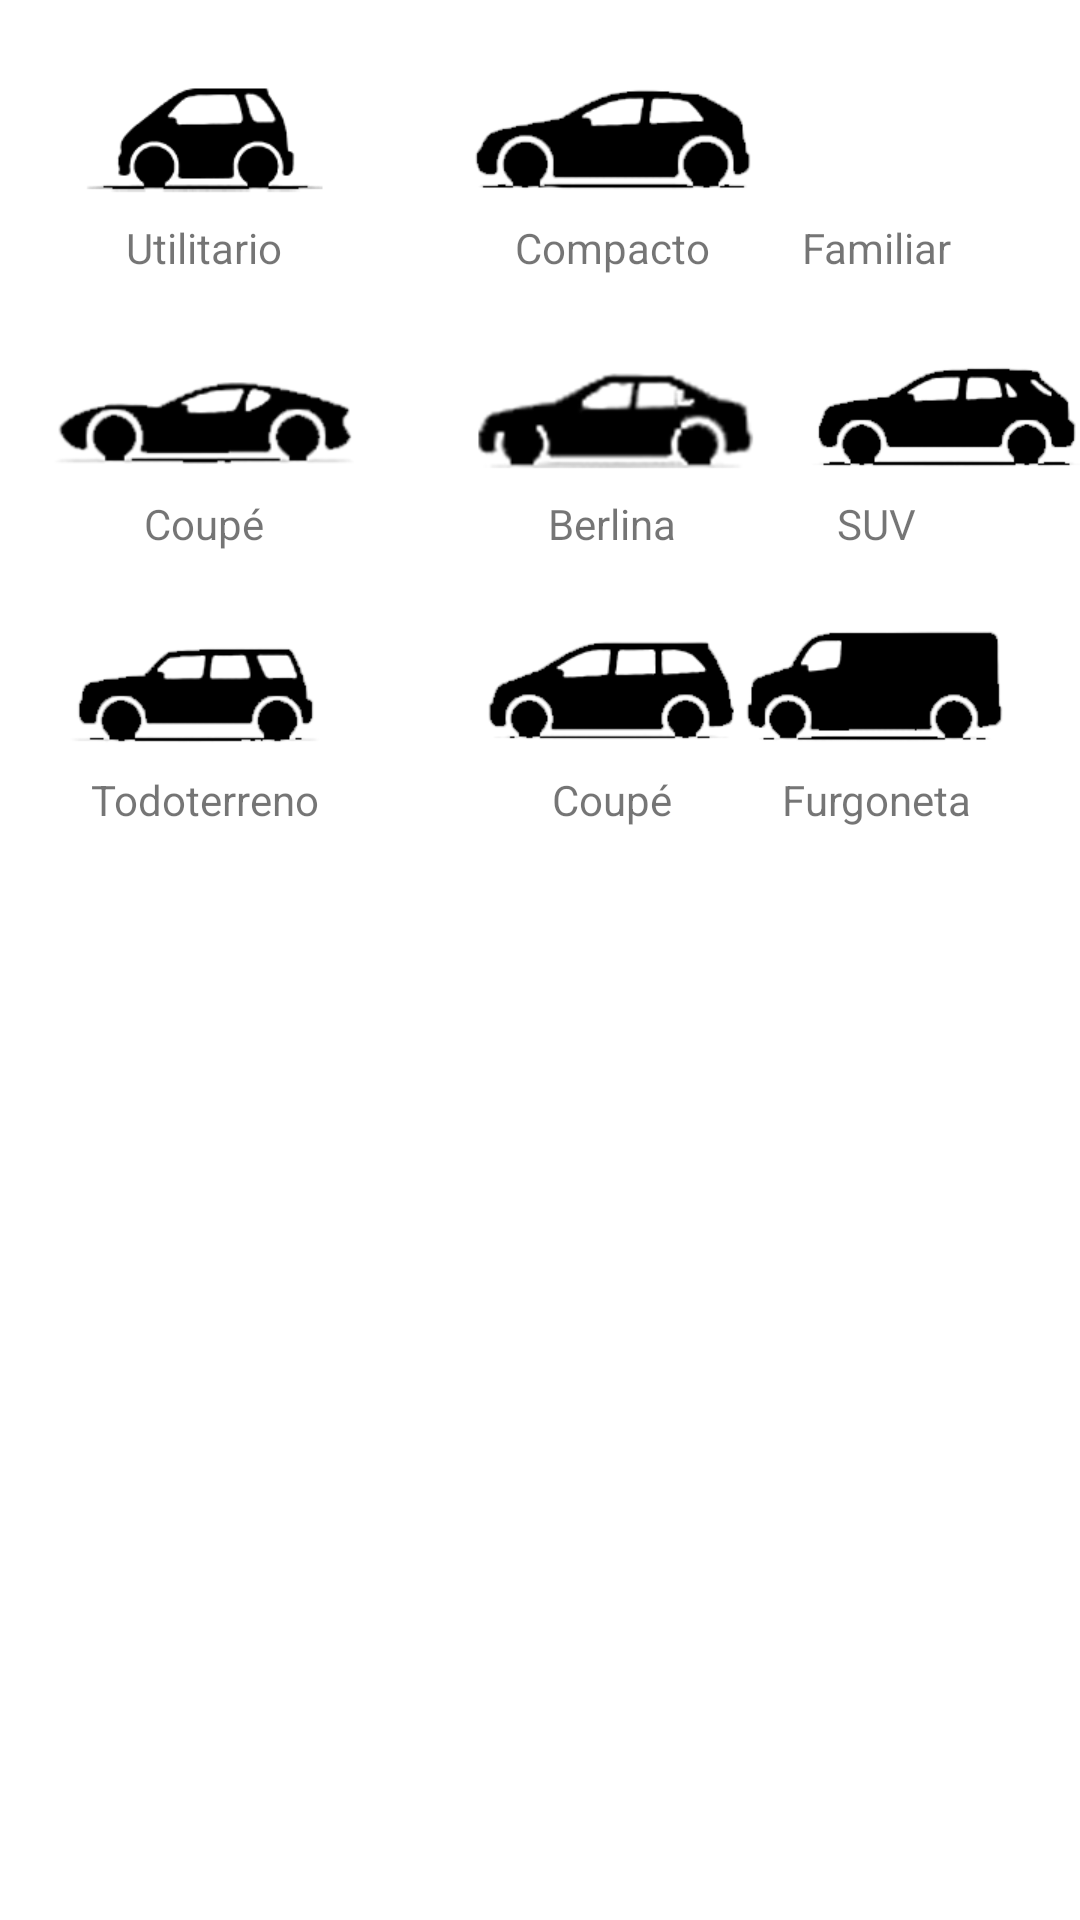

Point at icon controls on the screen. Image size 1080w x 1920h, points as point (x, y).
car consumption monovolumen: point (632, 716)
